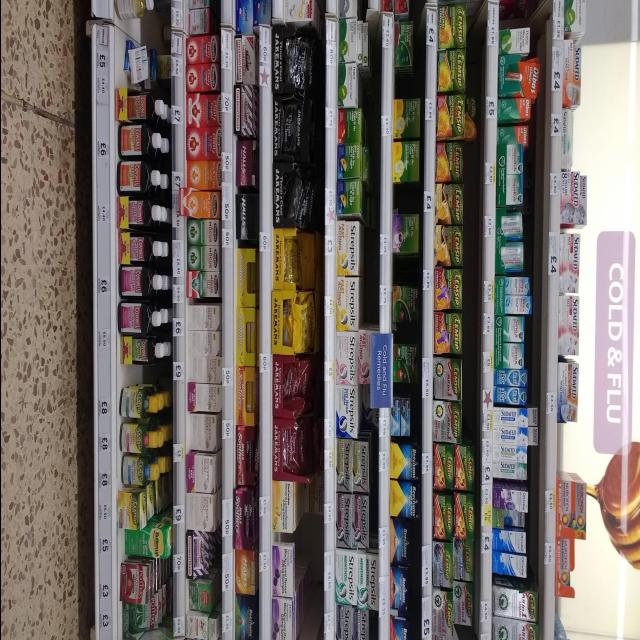empty_space: (557, 423, 587, 475), (553, 598, 583, 632), (123, 359, 159, 387), (115, 16, 155, 40), (390, 253, 420, 282), (496, 2, 528, 28), (394, 64, 418, 96), (391, 182, 414, 210)
